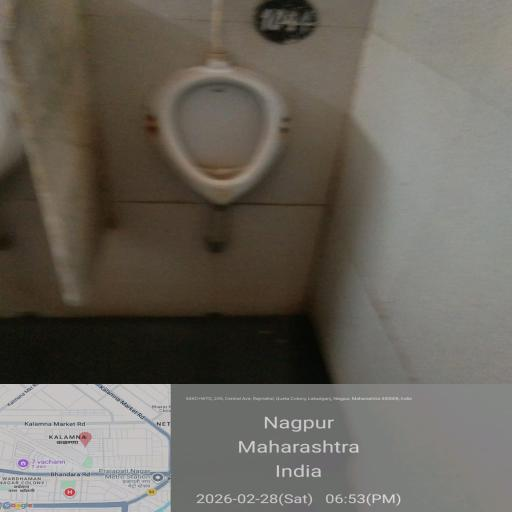clean_floor: (28, 232, 498, 502)
clean_urinal: (114, 45, 330, 217)
